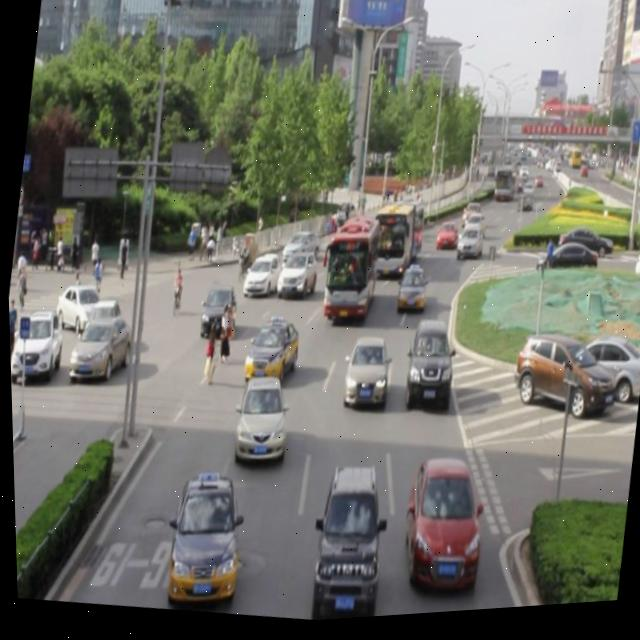car: (394, 453, 486, 598), (305, 463, 385, 620), (162, 472, 245, 609), (228, 373, 291, 468), (399, 319, 456, 414), (239, 317, 299, 393), (339, 335, 391, 418), (274, 248, 320, 309), (197, 285, 241, 343), (240, 253, 283, 304), (392, 268, 426, 319), (453, 227, 482, 270), (430, 223, 456, 261)
van: (317, 219, 380, 324), (369, 203, 423, 284)
